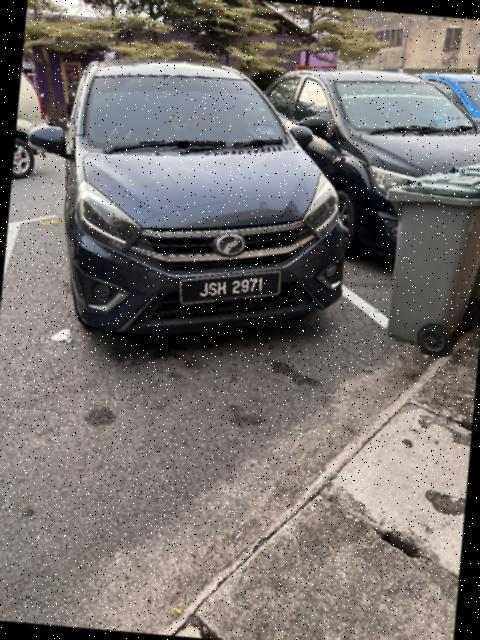License_Plate: (178, 262, 282, 315)
car: (20, 53, 375, 373), (246, 47, 480, 279)
